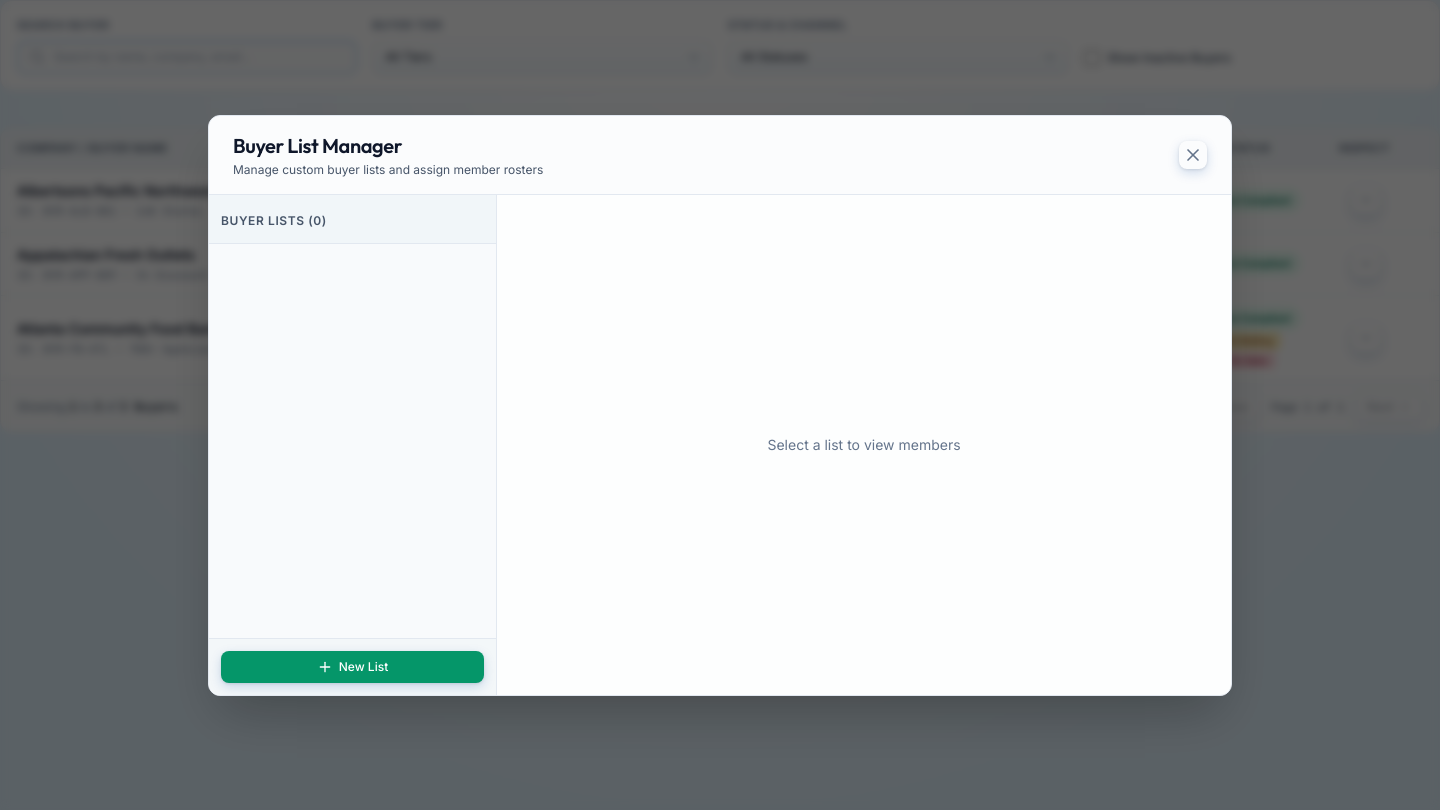
it: Issue #0123: Slice 5 - Buyer Pipeline Modern Grid & Progressive Inspection Drawer › 2. Subheader Action Buttons & Modal Launches › launches BuyerListManagerModal and AddBuyerModal via modal event listeners
expect the heading "Buyer List Manager" is shown: met, box x1=233 y1=132 x2=402 y2=158
Note: Close modal
Click the button named "close" at (1193,154), box x1=1179 y1=140 x2=1207 y2=168
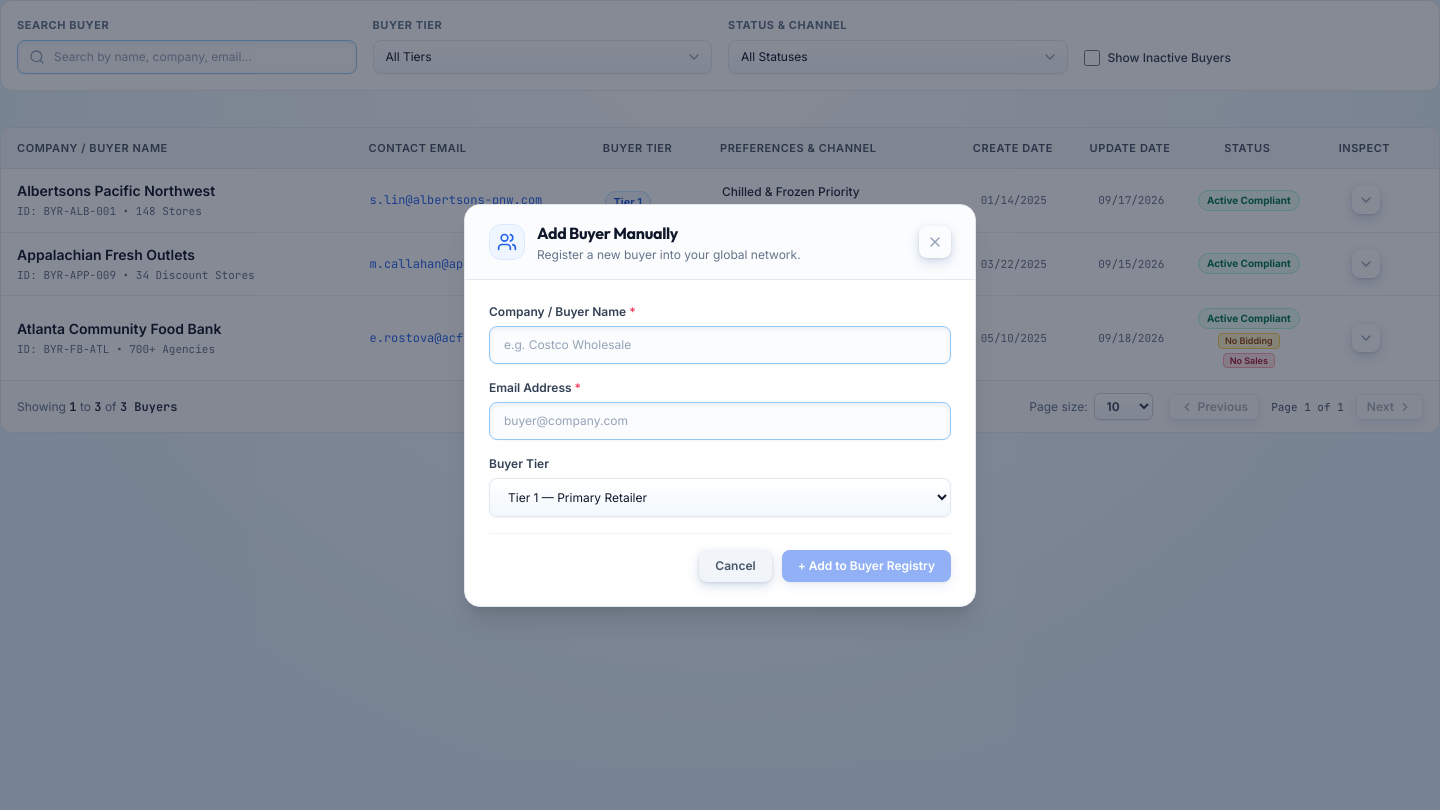
expect the text "Register a new buyer into your global network." is shown: met, box x1=537 y1=246 x2=801 y2=262
